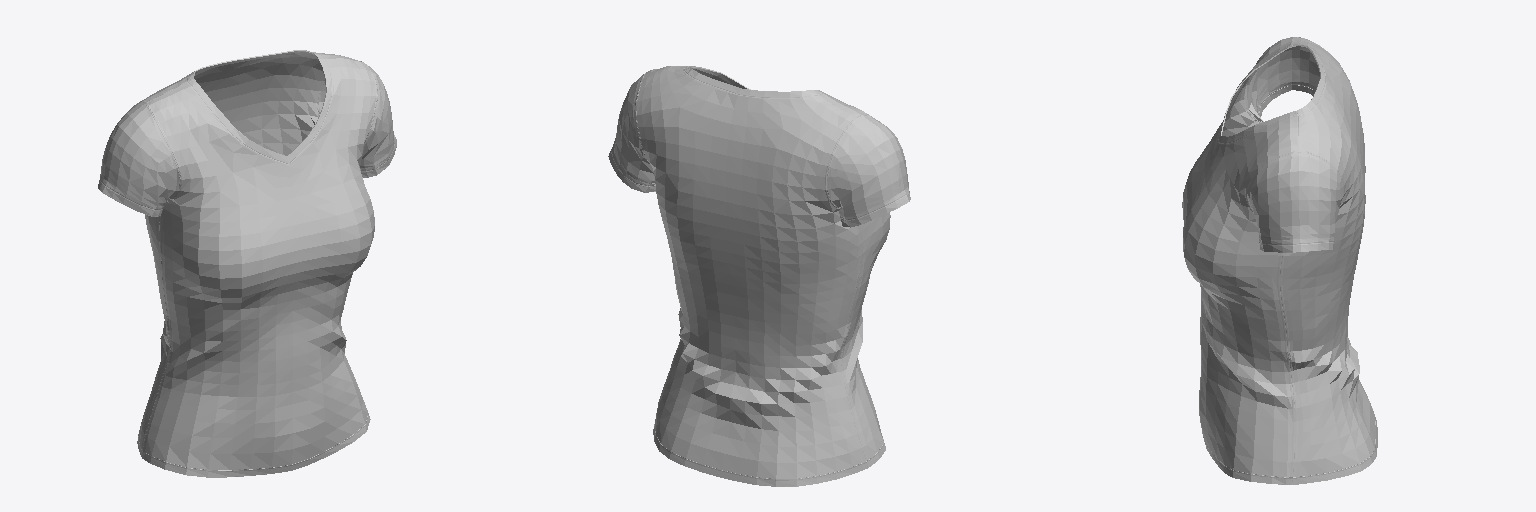
File: FemaleShirtSimple.obj
3 views of the same model, side by side, from view 1: azimuth 30°, elevation 25°; view 2: azimuth 150°, elevation 25°; view 3: azimuth 270°, elevation 25° (orthographic).
Parts seen in each view (by area): view 1: FemaleShirtSimple; view 2: FemaleShirtSimple; view 3: FemaleShirtSimple.
Boxes of the visible parts, box(x1,y1,x2,y2) form: FemaleShirtSimple: box(98, 50, 396, 477); FemaleShirtSimple: box(608, 66, 910, 486); FemaleShirtSimple: box(1182, 37, 1377, 484).
Size of the model in its own units: 43.45 by 52.52 by 24.92.